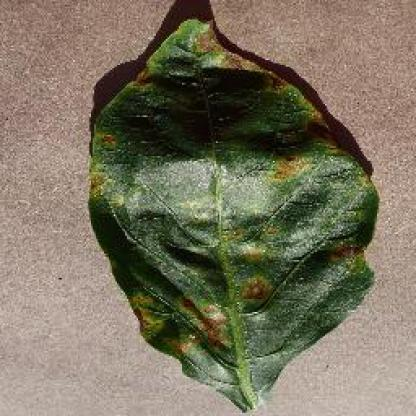bad leaf: (91, 10, 374, 414)
